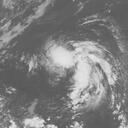cyclone: (44, 37, 120, 111)
